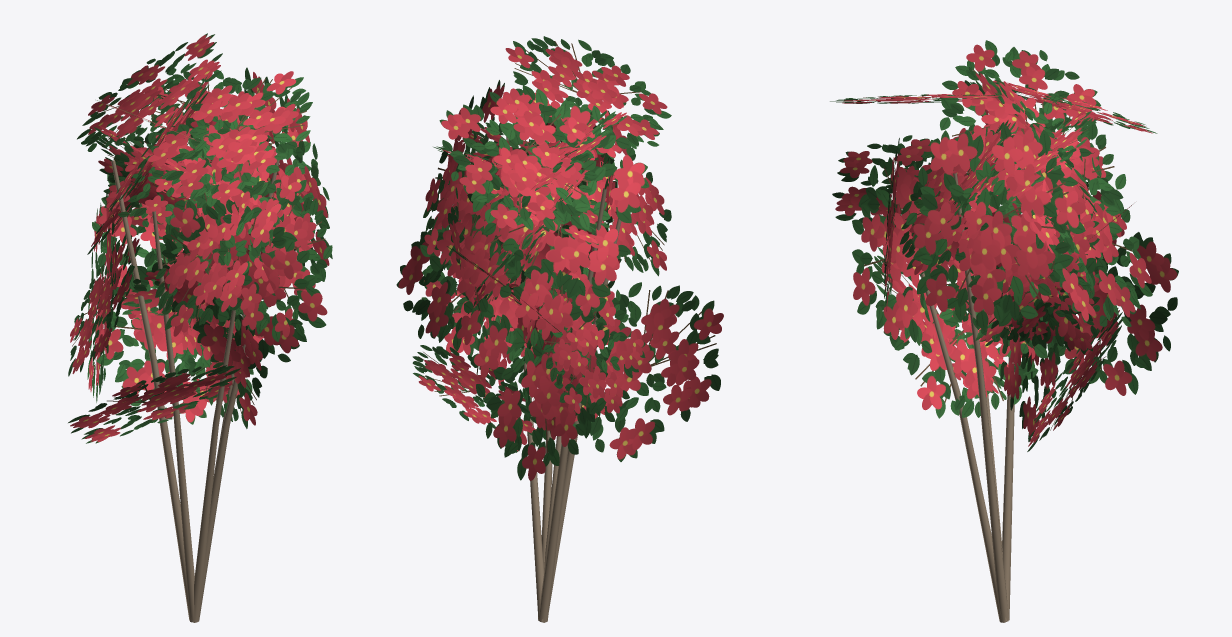
The model's file is camellia-japonica.glb.
The picture shows the model from 3 angles, left to right: view 1: azimuth 30°, elevation 25°; view 2: azimuth 150°, elevation 25°; view 3: azimuth 270°, elevation 25°; orthographic projection. The views are drawn at different scales.
Parts seen in each view (by area): view 1: folhas, galhos; view 2: folhas, galhos; view 3: folhas, galhos.
Boxes of the visible parts, left/top/right/bottom form: folhas: left=68, top=33, right=332, bottom=443; galhos: left=111, top=153, right=279, bottom=622; folhas: left=396, top=36, right=723, bottom=480; galhos: left=506, top=136, right=621, bottom=622; folhas: left=830, top=40, right=1178, bottom=451; galhos: left=920, top=173, right=1014, bottom=622.
Bounding box in the file's own units: 1.73 × 3 × 2.
Materials: 2 (1 with a texture image).
